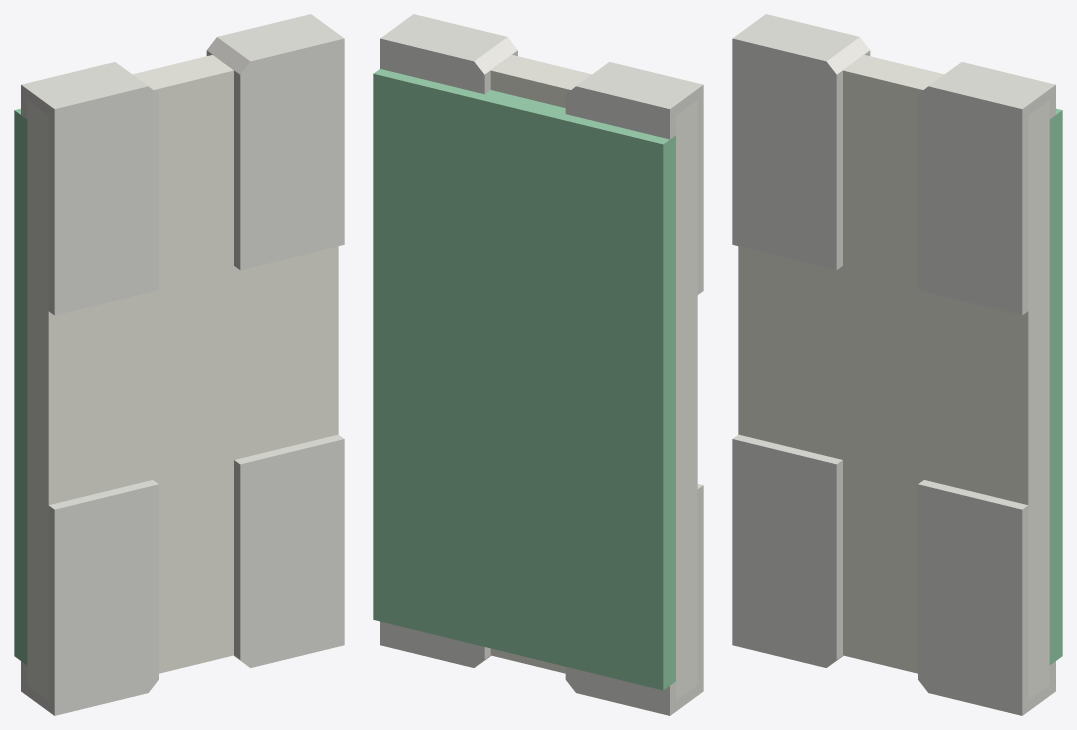
File: R_Shunt_Ohmite_LVK20.glb
3 views of the same model, side by side, from view 1: azimuth 30°, elevation 25°; view 2: azimuth 150°, elevation 25°; view 3: azimuth 330°, elevation 25° (orthographic).
Visible parts, largest first — view 1: Shape_IndexedFaceSet.009, Shape_IndexedFaceSet.032, Shape_IndexedFaceSet.036, Shape_IndexedFaceSet.026, Shape_IndexedFaceSet, Shape_IndexedFaceSet.020, Shape_IndexedFaceSet.025, Shape_IndexedFaceSet.027, Shape_IndexedFaceSet.039, Shape_IndexedFaceSet.034, Shape_IndexedFaceSet.035, Shape_IndexedFaceSet.023 (+5 smaller); view 2: Shape_IndexedFaceSet.015, Shape_IndexedFaceSet.020, Shape_IndexedFaceSet.025, Shape_IndexedFaceSet.028, Shape_IndexedFaceSet.029, Shape_IndexedFaceSet.027, Shape_IndexedFaceSet.039, Shape_IndexedFaceSet.014, Shape_IndexedFaceSet.024, Shape_IndexedFaceSet.006, Shape_IndexedFaceSet.034, Shape_IndexedFaceSet.035 (+4 smaller); view 3: Shape_IndexedFaceSet.009, Shape_IndexedFaceSet, Shape_IndexedFaceSet.026, Shape_IndexedFaceSet.036, Shape_IndexedFaceSet.032, Shape_IndexedFaceSet.007, Shape_IndexedFaceSet.008, Shape_IndexedFaceSet.039, Shape_IndexedFaceSet.027, Shape_IndexedFaceSet.003, Shape_IndexedFaceSet.013, Shape_IndexedFaceSet.023 (+5 smaller).
Part boxes in pixels (x1=…): Shape_IndexedFaceSet.009: x1=48, y1=70, x2=338, y2=673; Shape_IndexedFaceSet.032: x1=54, y1=484, x2=158, y2=715; Shape_IndexedFaceSet.036: x1=54, y1=86, x2=158, y2=315; Shape_IndexedFaceSet.026: x1=240, y1=38, x2=344, y2=269; Shape_IndexedFaceSet: x1=240, y1=439, x2=344, y2=667; Shape_IndexedFaceSet.020: x1=27, y1=100, x2=48, y2=700; Shape_IndexedFaceSet.025: x1=14, y1=110, x2=27, y2=665; Shape_IndexedFaceSet.027: x1=217, y1=14, x2=344, y2=61; Shape_IndexedFaceSet.039: x1=21, y1=62, x2=148, y2=108; Shape_IndexedFaceSet.034: x1=21, y1=505, x2=54, y2=715; Shape_IndexedFaceSet.035: x1=21, y1=85, x2=54, y2=315; Shape_IndexedFaceSet.023: x1=133, y1=55, x2=233, y2=89; Shape_IndexedFaceSet.015: x1=373, y1=73, x2=663, y2=690; Shape_IndexedFaceSet.020: x1=676, y1=100, x2=697, y2=700; Shape_IndexedFaceSet.025: x1=663, y1=135, x2=675, y2=690; Shape_IndexedFaceSet.028: x1=380, y1=38, x2=484, y2=94; Shape_IndexedFaceSet.029: x1=565, y1=86, x2=669, y2=139; Shape_IndexedFaceSet.027: x1=380, y1=14, x2=506, y2=61; Shape_IndexedFaceSet.039: x1=576, y1=62, x2=702, y2=108; Shape_IndexedFaceSet.014: x1=374, y1=69, x2=669, y2=144; Shape_IndexedFaceSet.024: x1=565, y1=667, x2=669, y2=715; Shape_IndexedFaceSet.006: x1=380, y1=621, x2=484, y2=667; Shape_IndexedFaceSet.034: x1=670, y1=485, x2=703, y2=715; Shape_IndexedFaceSet.035: x1=670, y1=85, x2=703, y2=294; Shape_IndexedFaceSet.009: x1=738, y1=70, x2=1028, y2=673; Shape_IndexedFaceSet: x1=918, y1=484, x2=1022, y2=715; Shape_IndexedFaceSet.026: x1=918, y1=86, x2=1022, y2=315; Shape_IndexedFaceSet.036: x1=732, y1=38, x2=836, y2=269; Shape_IndexedFaceSet.032: x1=732, y1=439, x2=836, y2=667; Shape_IndexedFaceSet.007: x1=1028, y1=100, x2=1049, y2=700; Shape_IndexedFaceSet.008: x1=1049, y1=110, x2=1062, y2=665; Shape_IndexedFaceSet.039: x1=732, y1=14, x2=859, y2=61; Shape_IndexedFaceSet.027: x1=928, y1=62, x2=1055, y2=108; Shape_IndexedFaceSet.003: x1=1022, y1=505, x2=1055, y2=715; Shape_IndexedFaceSet.013: x1=1022, y1=85, x2=1055, y2=315; Shape_IndexedFaceSet.023: x1=843, y1=55, x2=943, y2=89.
Size of the model in its own units: 0.9843 by 1.97 by 0.2362.
